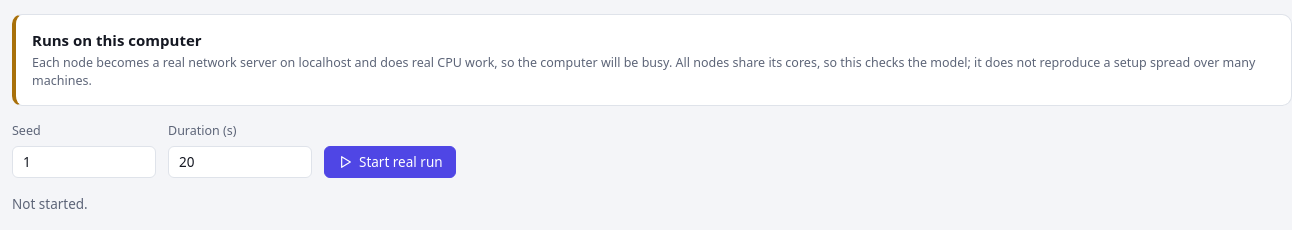
Test: RealPanel › cancels a run
This screenshot has width=1292, height=230.
Click the button "Start real run" at (390, 162), box [324,146,456,178]
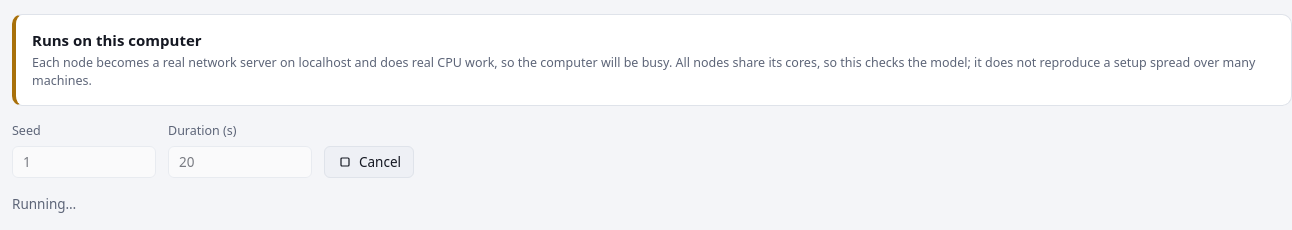
Click the button "Cancel" at (369, 162), box [324,146,414,178]
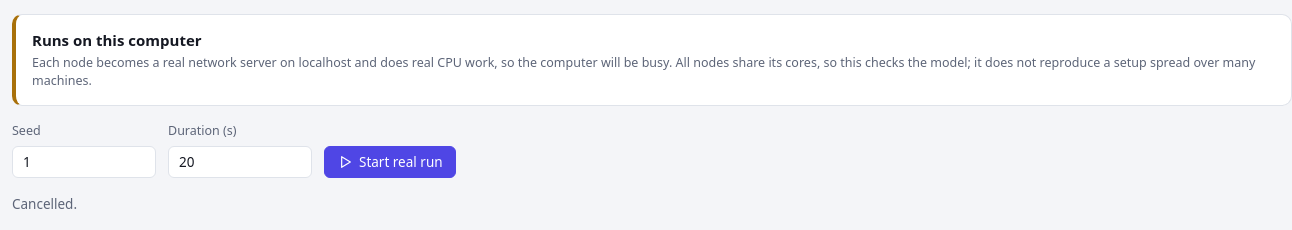
Expected: the text "Cancelled." is shown, [12,195,77,213]
